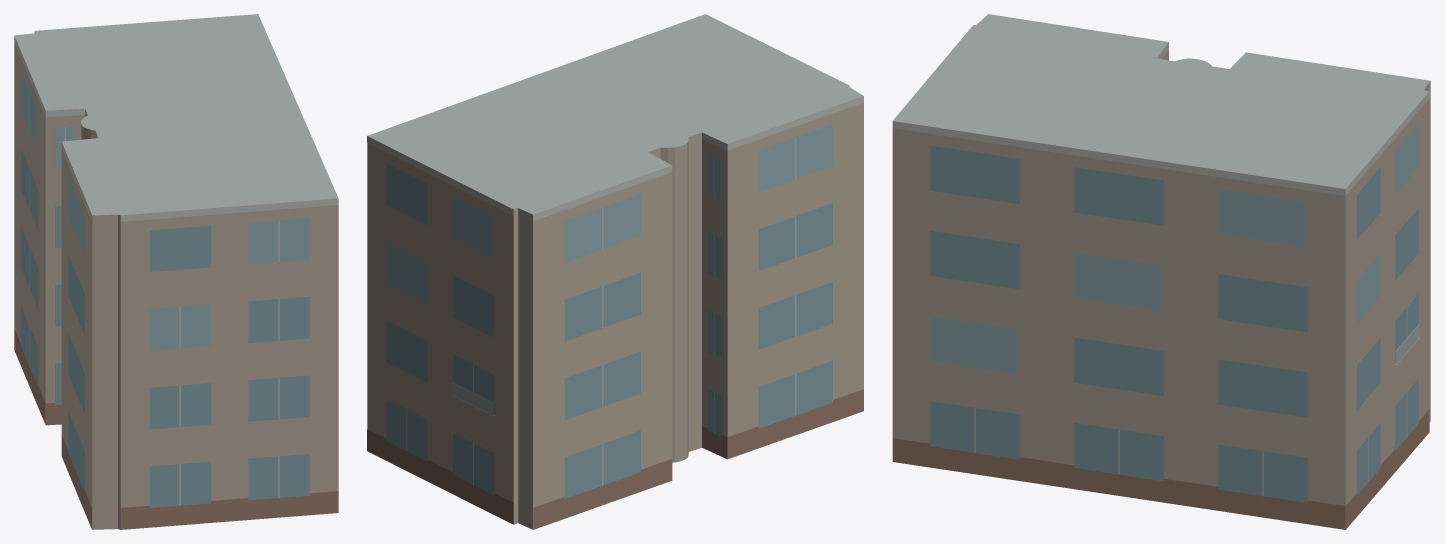
Rendered from survey-upis-32888443.glb.
3 renders of one model, left to right at view 1: azimuth 30°, elevation 25°; view 2: azimuth 150°, elevation 25°; view 3: azimuth 270°, elevation 25°, orthographic. The views are drawn at different scales.
Parts seen in each view (by area): view 1: survey-upis-32888443.tmp; view 2: survey-upis-32888443.tmp; view 3: survey-upis-32888443.tmp.
Part boxes in pixels (x1,y1,x2,y2): survey-upis-32888443.tmp: [14, 14, 338, 529]; survey-upis-32888443.tmp: [367, 14, 863, 529]; survey-upis-32888443.tmp: [892, 14, 1430, 529].
Size of the model in its own units: 12.89 by 11.7 by 16.74.
